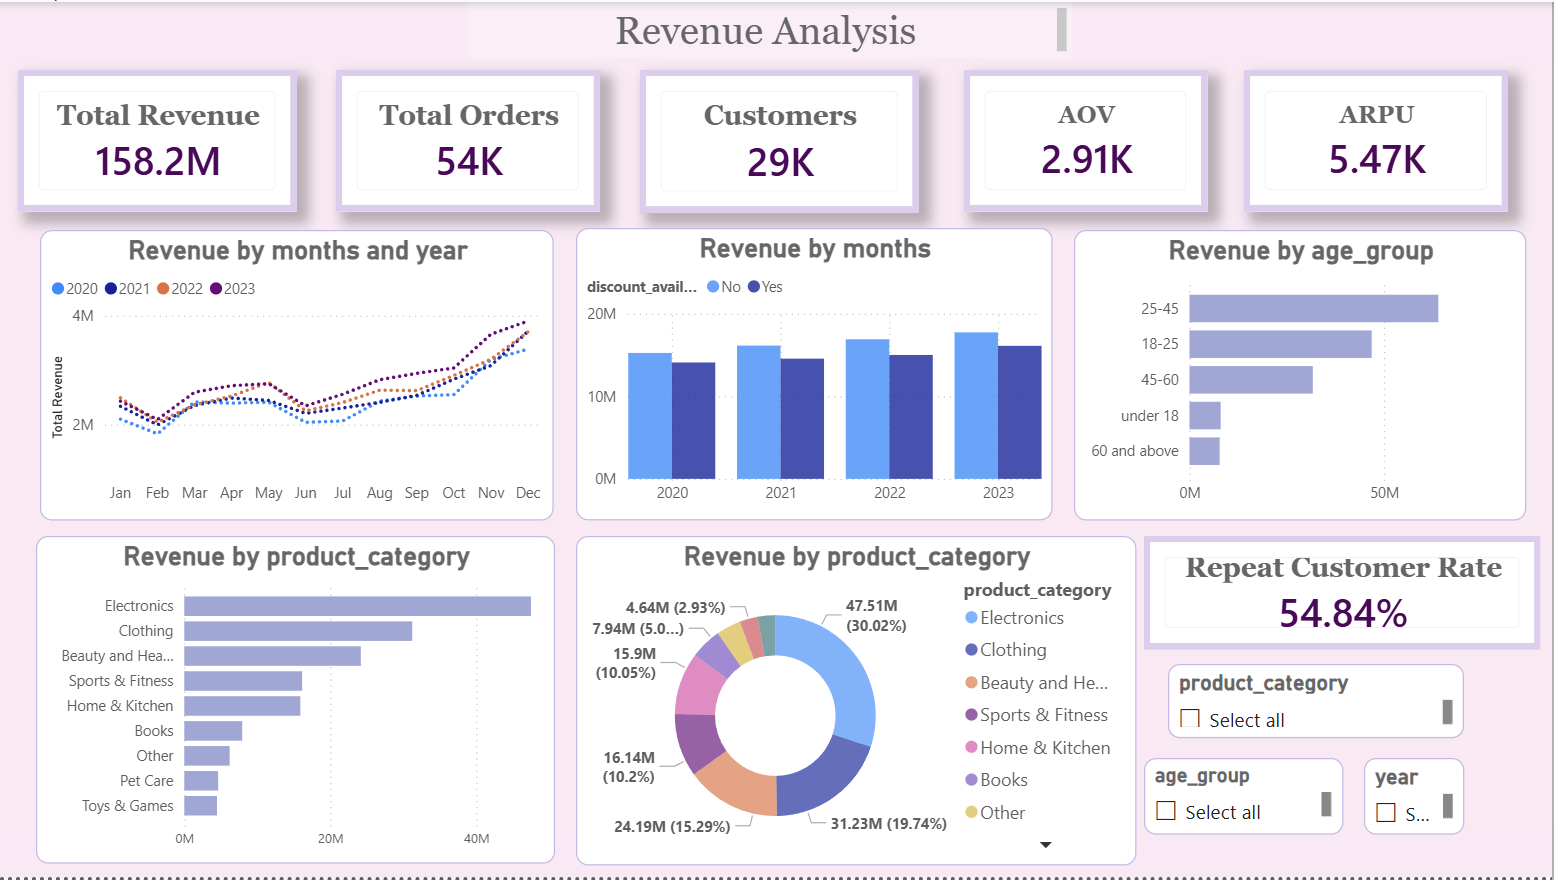

The page's visual inventory and layout, read from the dashboard file:
{"tool":"powerbi","page":{"name":"Page 1","canvas":[1280,720],"ordinal":0},"visuals":[{"type":"cardVisual","title":"Total  Revenue","fields":{"Data":["clean_ecommerce.Total Revenue"]},"box":[18.4,55.1,229.7,116.4],"z":0},{"type":"cardVisual","title":"Total  Orders","fields":{"Data":["clean_ecommerce.Total Orders"]},"box":[280.2,56.7,217.4,116.4],"z":1000},{"type":"cardVisual","title":"Customers","fields":{"Data":["clean_ecommerce.Customers"]},"box":[529.8,55.1,229.7,117.9],"z":2000},{"type":"cardVisual","title":"AOV","fields":{"Data":["clean_ecommerce.AOV"]},"box":[796.2,55.1,200.6,116.4],"z":3000},{"type":"cardVisual","title":"ARPU","fields":{"Data":["clean_ecommerce.ARPU"]},"box":[1027.4,55.1,217.4,116.4],"z":4000},{"type":"lineChart","title":"Revenue by months and year","fields":{"Y":["clean_ecommerce.Total Revenue"],"Category":["clean_ecommerce.months"],"Series":["clean_ecommerce.year"]},"box":[36.7,186.8,422.6,238.9],"z":5000},{"type":"clusteredColumnChart","title":"Revenue by months ","fields":{"Y":["clean_ecommerce.Total Revenue"],"Series":["clean_ecommerce.discount_availed"],"Category":["clean_ecommerce.year"]},"box":[477.7,185.3,392,240.4],"z":6000},{"type":"clusteredBarChart","title":"Revenue by product_category","fields":{"Category":["clean_ecommerce.product_category"],"Y":["clean_ecommerce.Total Revenue"]},"box":[32.2,439.4,427.2,269.5],"z":7000},{"type":"donutChart","title":"Revenue by product_category","fields":{"Category":["clean_ecommerce.product_category"],"Y":["clean_ecommerce.Total Revenue"]},"box":[477.7,439.4,460.9,271],"z":8000},{"type":"clusteredBarChart","title":"Revenue by age_group","fields":{"Y":["clean_ecommerce.Total Revenue"],"Category":["clean_ecommerce.age_group"]},"box":[886.5,186.8,372.1,238.9],"z":9000},{"type":"listSlicer","fields":{"Values":["clean_ecommerce.year"]},"box":[1125.4,621.6,82.7,62.8],"z":10000},{"type":"listSlicer","fields":{"Values":["clean_ecommerce.product_category"]},"box":[964.6,545.1,243.4,61.2],"z":11000},{"type":"listSlicer","fields":{"Values":["clean_ecommerce.age_group"]},"box":[944.7,621.6,163.8,62.8],"z":12000},{"type":"textbox","box":[388.9,0,497.6,45.9],"z":13000},{"type":"cardVisual","title":"Total  Orders","fields":{"Data":["clean_ecommerce.Repeat Customer Rate"]},"box":[944.7,439.4,326.1,93.4],"z":14000}]}

Visuals, with their boxes in screenshot pixels (x1, y1, x2, y2), scaled from the page's 1280x720 canvas onto the 1554x880 screenshot:
"Total  Revenue" cardVisual: bbox(22, 67, 301, 210)
"Total  Orders" cardVisual: bbox(340, 69, 604, 212)
"Customers" cardVisual: bbox(643, 67, 922, 211)
"AOV" cardVisual: bbox(967, 67, 1210, 210)
"ARPU" cardVisual: bbox(1247, 67, 1511, 210)
"Revenue by months and year" lineChart: bbox(45, 228, 558, 520)
"Revenue by months " clusteredColumnChart: bbox(580, 226, 1056, 520)
"Revenue by product_category" clusteredBarChart: bbox(39, 537, 558, 866)
"Revenue by product_category" donutChart: bbox(580, 537, 1140, 868)
"Revenue by age_group" clusteredBarChart: bbox(1076, 228, 1528, 520)
listSlicer - clean_ecommerce.year: bbox(1366, 760, 1467, 836)
listSlicer - clean_ecommerce.product_category: bbox(1171, 666, 1467, 741)
listSlicer - clean_ecommerce.age_group: bbox(1147, 760, 1346, 836)
textbox: bbox(472, 0, 1076, 56)
"Total  Orders" cardVisual: bbox(1147, 537, 1543, 651)
